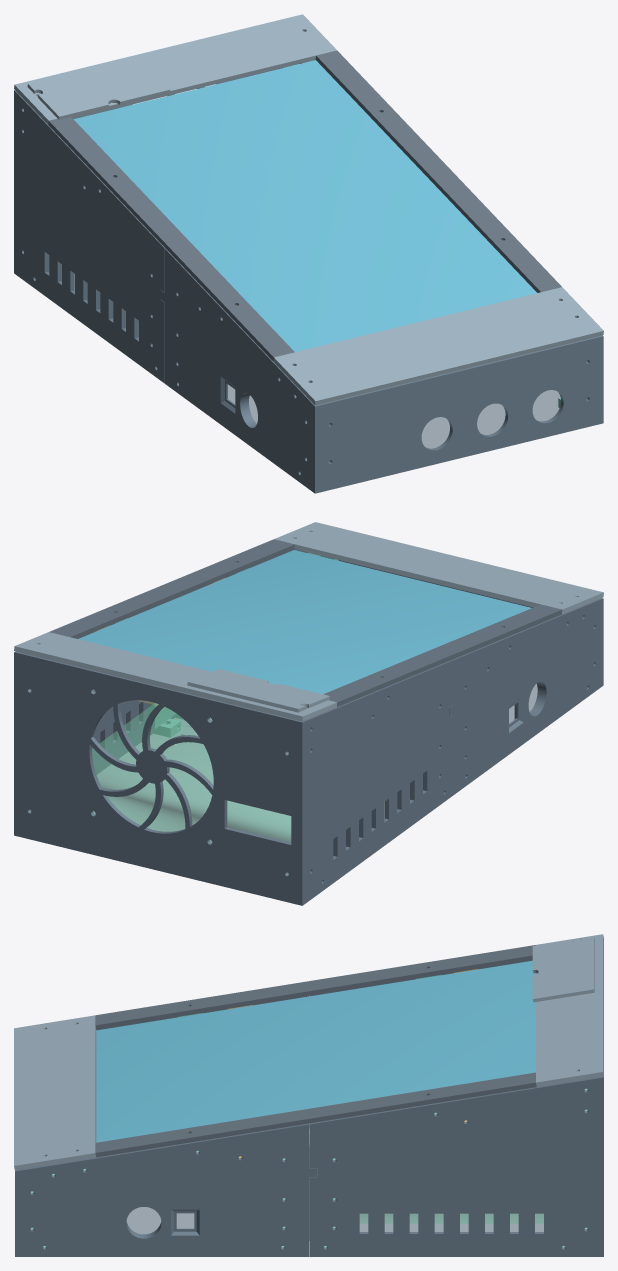
Rendered from cabinet.glb.
3 renders of one model, top to bottom at view 1: azimuth 30°, elevation 25°; view 2: azimuth 150°, elevation 25°; view 3: azimuth 270°, elevation 25°, orthographic. The views are drawn at different scales.
Parts seen in each view (by area): view 1: REFERENCE_Monitor, left_rear_wall, front_button_panel, left_front_wall, front_cable_lid, rear_control_deck, bezel_right_a1_a2, bezel_left_one_piece, control_hatch, bottom_front; view 2: rear_vent_panel, REFERENCE_Monitor, left_rear_wall, left_front_wall, front_cable_lid, REFERENCE_Dell_3050, bottom_rear, rear_control_deck, bezel_right_a1_a2, bezel_left_one_piece, right_rear_wall, control_hatch; view 3: REFERENCE_Monitor, right_rear_wall, right_front_wall, front_cable_lid, bezel_right_a1_a2, bezel_left_one_piece, rear_control_deck, control_hatch, bottom_rear, bottom_front, REFERENCE_Dell_3050.
Boxes of the visible parts, x1,y1,x2,y2 form: REFERENCE_Monitor: (73, 60, 536, 352); left_rear_wall: (14, 90, 164, 383); front_button_panel: (319, 336, 598, 492); left_front_wall: (160, 248, 319, 493); front_cable_lid: (273, 287, 603, 405); rear_control_deck: (14, 14, 336, 124); bezel_right_a1_a2: (315, 50, 561, 292); bezel_left_one_piece: (48, 117, 294, 360); control_hatch: (27, 56, 170, 119); bottom_front: (228, 384, 560, 448); rear_vent_panel: (18, 652, 299, 904); REFERENCE_Monitor: (78, 550, 531, 694); left_rear_wall: (298, 660, 452, 905); left_front_wall: (449, 598, 603, 795); front_cable_lid: (274, 522, 603, 614); REFERENCE_Dell_3050: (92, 703, 291, 842); bottom_rear: (93, 725, 384, 842); rear_control_deck: (14, 632, 337, 721); bezel_right_a1_a2: (49, 539, 294, 638); bezel_left_one_piece: (323, 604, 562, 706); right_rear_wall: (14, 601, 168, 836); control_hatch: (187, 669, 329, 712); REFERENCE_Monitor: (96, 960, 535, 1142); right_rear_wall: (309, 1076, 603, 1256); right_front_wall: (15, 1123, 316, 1256); front_cable_lid: (14, 1015, 96, 1170); bezel_right_a1_a2: (95, 1072, 536, 1157); bezel_left_one_piece: (95, 945, 535, 1029); rear_control_deck: (536, 934, 603, 1086); control_hatch: (532, 936, 594, 1002); bottom_rear: (359, 1213, 543, 1231); bottom_front: (126, 1207, 194, 1234); REFERENCE_Dell_3050: (359, 1213, 543, 1223).
Bounding box in the file's own units: 0.26 × 0.1646 × 0.4707.
